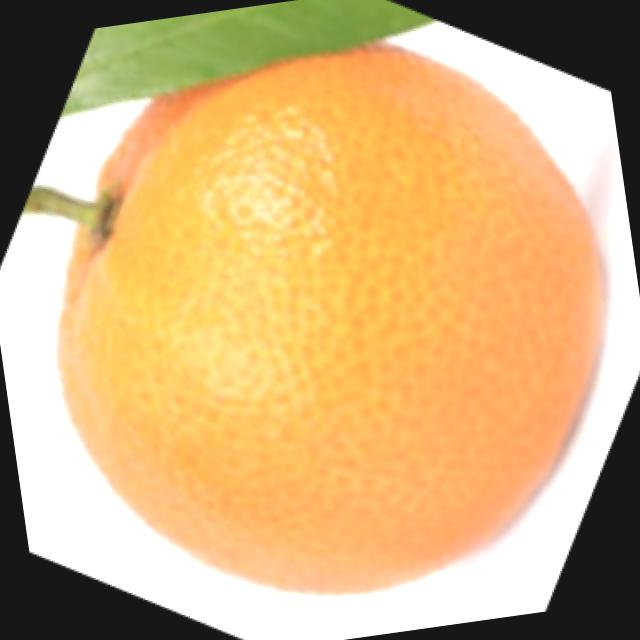orange: (30, 0, 640, 640)
